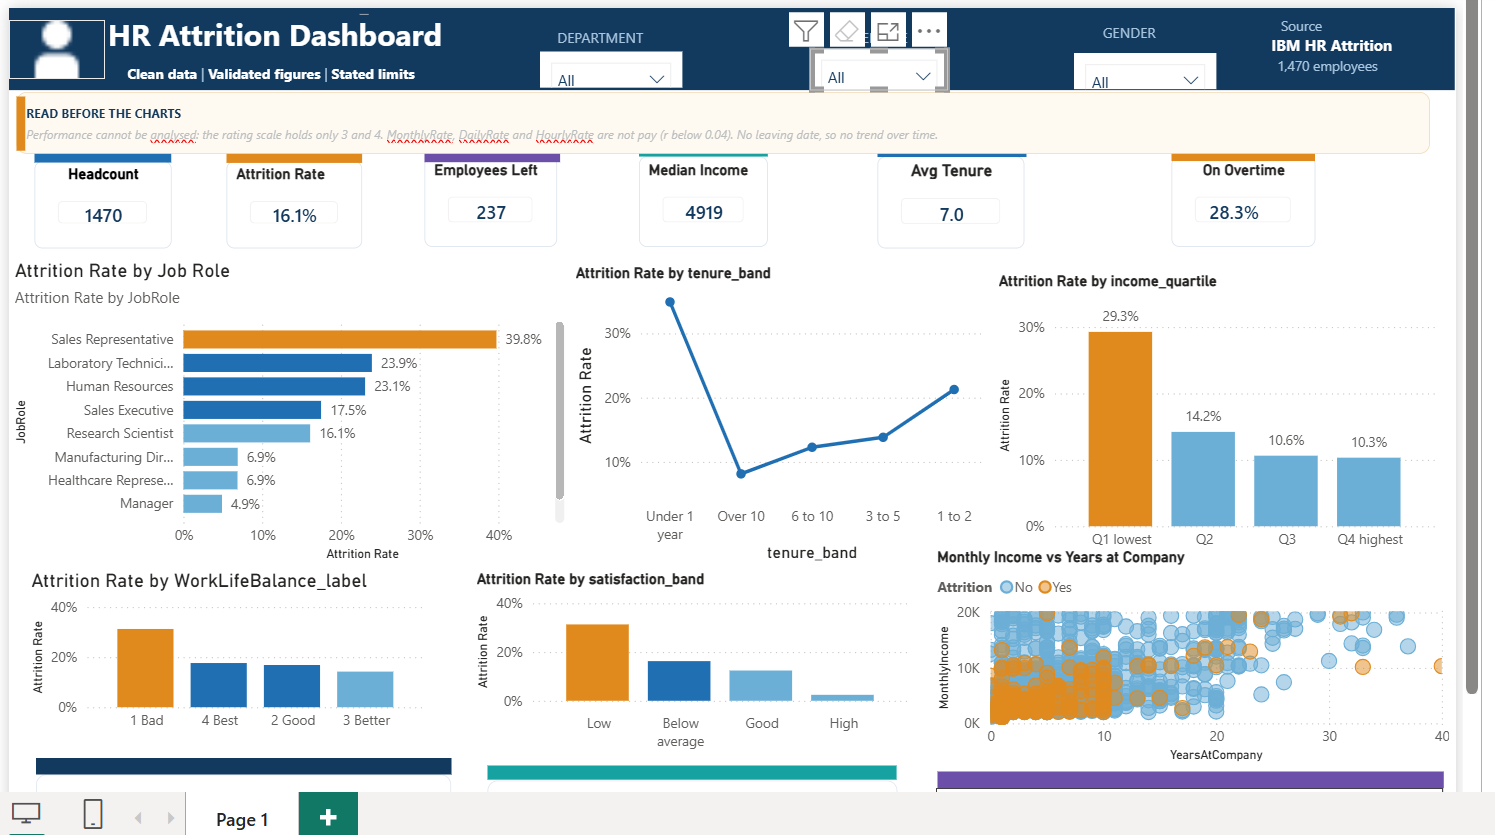

Layout of this report page (visuals, bound fields, positions):
{"tool":"powerbi","page":{"name":"Page 1","canvas":[1280,780],"ordinal":0},"visuals":[{"type":"shape","box":[0,0,1279.5,72.7],"z":0},{"type":"slicer","fields":{"Values":["PowerBI_import.Department"]},"box":[470,39,126,32],"z":1000},{"type":"slicer","fields":{"Values":["PowerBI_import.OverTime"]},"box":[708.8,35.7,122.5,37.2],"z":2000},{"type":"slicer","fields":{"Values":["PowerBI_import.Gender"]},"box":[943,40,126,32],"z":3000},{"type":"slicer","fields":{"Values":["PowerBI_import.Gender"]},"box":[861,76,144.7,51.8],"z":4000},{"type":"cardVisual","title":"Headcount","fields":{"Data":["Measures (2).Headcount"]},"box":[23,135,121,77],"z":5000},{"type":"cardVisual","title":"Attrition Rate","fields":{"Data":["Measures (2).Attrition Rate"]},"box":[193,135,120,77],"z":6000},{"type":"cardVisual","title":"Employees Left","fields":{"Data":["Measures (2).Employees Left"]},"box":[368,132,117,80],"z":7000},{"type":"cardVisual","title":"Median Income","fields":{"Data":["Measures (2).Median Income"]},"box":[558,132,114,80],"z":8000},{"type":"cardVisual","title":"Avg Tenure","fields":{"Data":["Measures (2).Avg Tenure"]},"box":[768,131,130,81],"z":9000},{"type":"cardVisual","title":"On Overtime","fields":{"Data":["Measures (2).Overtime Share"]},"box":[1029,132,127,80],"z":10000},{"type":"shape","box":[23,125,121,12],"z":11000},{"type":"shape","box":[193,126,120,11],"z":12000},{"type":"shape","box":[368,124,120,13],"z":13000},{"type":"shape","box":[558,119,114,12],"z":14000},{"type":"shape","box":[768,119,131.8,12.4],"z":15000},{"type":"shape","box":[1029,123,127,12],"z":16000},{"type":"clusteredBarChart","title":"Attrition Rate by Job Role","fields":{"Category":["PowerBI_import.JobRole"],"Y":["Measures (2).Attrition Rate"]},"box":[0,222,496,272],"z":17000},{"type":"lineChart","fields":{"Category":["PowerBI_import.tenure_band"],"Y":["Measures (2).Attrition Rate"]},"box":[496.3,226.4,373.8,266.8],"z":18000},{"type":"clusteredColumnChart","fields":{"Category":["PowerBI_import.income_quartile"],"Y":["Measures (2).Attrition Rate"]},"box":[871,233,397,263.7],"z":19000},{"type":"clusteredColumnChart","fields":{"Category":["PowerBI_import.WorkLifeBalance_label"],"Y":["Measures (2).Attrition Rate"]},"box":[14,496.3,358.3,152],"z":20000},{"type":"clusteredColumnChart","fields":{"Category":["PowerBI_import.satisfaction_band"],"Y":["Measures (2).Attrition Rate"]},"box":[408.8,497.8,392.4,165.9],"z":21000},{"type":"textbox","box":[6,74,1250.7,54.5],"z":22000},{"type":"shape","box":[6,78,7.8,48.1],"z":23000},{"type":"scatterChart","title":"Monthly Income vs Years at Company","fields":{"Series":["PowerBI_import.Attrition"],"X":["PowerBI_import.YearsAtCompany"],"Y":["PowerBI_import.MonthlyIncome"]},"box":[816.3,477.8,463.2,193.8],"z":24000},{"type":"textbox","box":[23.9,678.3,367.6,102.4],"z":25000},{"type":"shape","box":[23.9,663.7,367.7,14.6],"z":26000},{"type":"textbox","box":[423.4,683.6,362.4,96.9],"z":27000},{"type":"shape","box":[423.4,670.3,362.2,12.6],"z":28000},{"type":"textbox","box":[820.3,690.2,448.6,86.3],"z":29000},{"type":"shape","box":[821,676,448.1,14.7],"z":30000},{"type":"image","box":[0,11,84.8,51.5],"z":31000},{"type":"textbox","box":[92.4,0,230.2,10.6],"z":32000},{"type":"textbox","box":[81.8,0,402.8,83.3],"z":33000},{"type":"textbox","box":[99,42,280.1,40.9],"z":34000},{"type":"textbox","box":[1071,0,169,70],"z":35000},{"type":"textbox","box":[709,11,125,28],"z":37001},{"type":"textbox","box":[943,7,128,35],"z":37003},{"type":"textbox","box":[470,11,126,28],"z":37004}]}

Visuals, with their boxes on the page's 1280x780 design canvas (x1, y1, x2, y2). These are canvas units, not pixel positions in the 1495x835 screenshot, which may show the page scaled, cropped or inside an application window:
shape: 0/0/1280/73
slicer - PowerBI_import.Department: 470/39/596/71
slicer - PowerBI_import.OverTime: 709/36/831/73
slicer - PowerBI_import.Gender: 943/40/1069/72
slicer - PowerBI_import.Gender: 861/76/1006/128
"Headcount" cardVisual: 23/135/144/212
"Attrition Rate" cardVisual: 193/135/313/212
"Employees Left" cardVisual: 368/132/485/212
"Median Income" cardVisual: 558/132/672/212
"Avg Tenure" cardVisual: 768/131/898/212
"On Overtime" cardVisual: 1029/132/1156/212
shape: 23/125/144/137
shape: 193/126/313/137
shape: 368/124/488/137
shape: 558/119/672/131
shape: 768/119/900/131
shape: 1029/123/1156/135
"Attrition Rate by Job Role" clusteredBarChart: 0/222/496/494
lineChart - PowerBI_import.tenure_band x Measures (2).Attrition Rate: 496/226/870/493
clusteredColumnChart - PowerBI_import.income_quartile x Measures (2).Attrition Rate: 871/233/1268/497
clusteredColumnChart - PowerBI_import.WorkLifeBalance_label x Measures (2).Attrition Rate: 14/496/372/648
clusteredColumnChart - PowerBI_import.satisfaction_band x Measures (2).Attrition Rate: 409/498/801/664
textbox: 6/74/1257/128
shape: 6/78/14/126
"Monthly Income vs Years at Company" scatterChart: 816/478/1280/672
textbox: 24/678/392/781
shape: 24/664/392/678
textbox: 423/684/786/780
shape: 423/670/786/683
textbox: 820/690/1269/776
shape: 821/676/1269/691
image: 0/11/85/62
textbox: 92/0/323/11
textbox: 82/0/485/83
textbox: 99/42/379/83
textbox: 1071/0/1240/70
textbox: 709/11/834/39
textbox: 943/7/1071/42
textbox: 470/11/596/39
